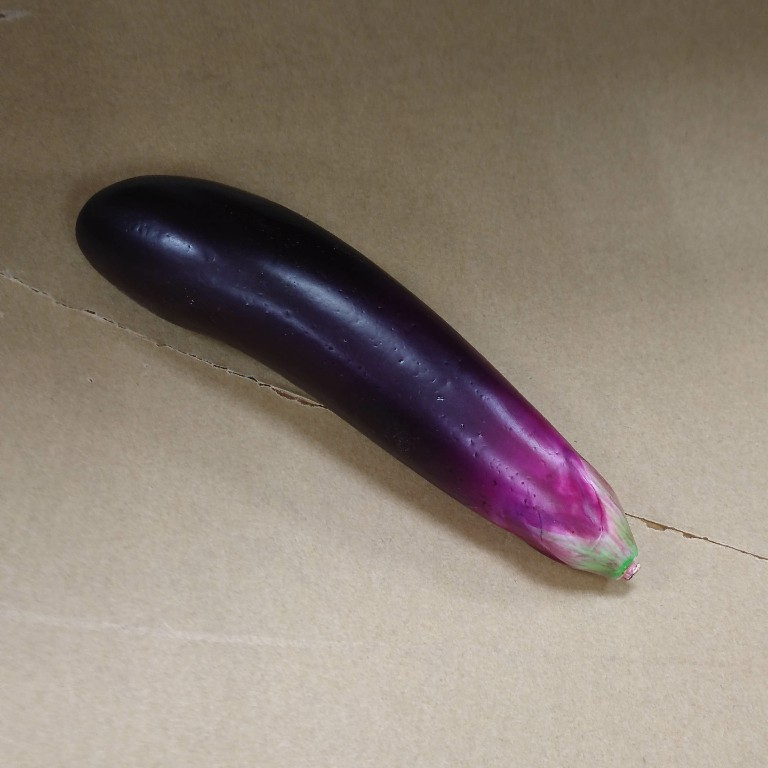fruit_eggplant: (73, 172, 646, 585)
